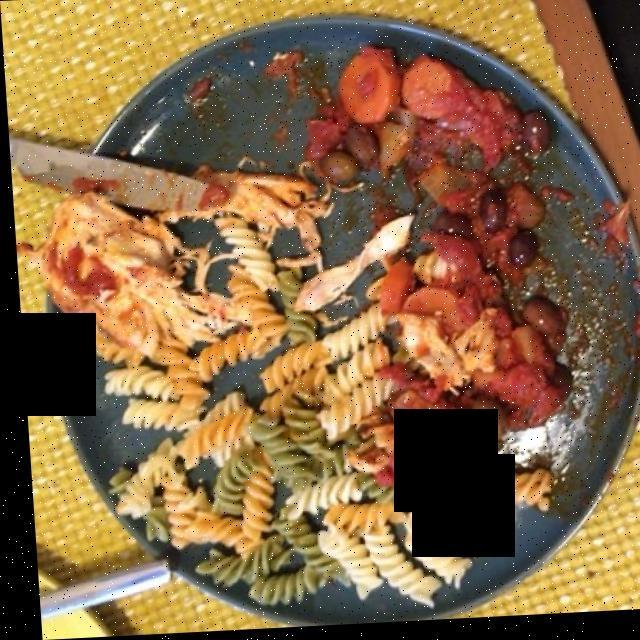black-olives: (307, 120, 564, 454)
carrots: (343, 48, 478, 353)
chicken-breast: (34, 192, 182, 361)
pasta: (96, 192, 463, 607)
tomato-sauce: (419, 117, 547, 440)
